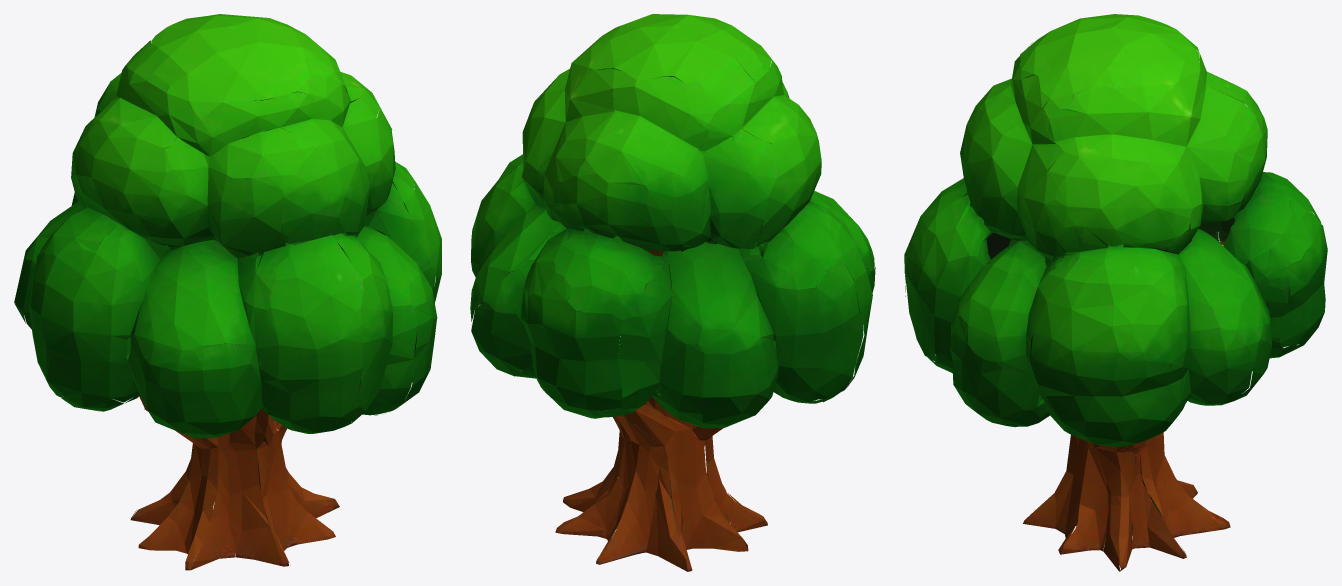
Rendered from rounded_tree.glb.
The picture shows the model from 3 angles, left to right: view 1: azimuth 30°, elevation 25°; view 2: azimuth 150°, elevation 25°; view 3: azimuth 270°, elevation 25°; orthographic projection. The views are drawn at different scales.
Visible parts, largest first — view 1: geometry_0; view 2: geometry_0; view 3: geometry_0.
Part boxes in pixels (left/top/right/bottom): geometry_0: left=14, top=14, right=441, bottom=570; geometry_0: left=470, top=14, right=875, bottom=571; geometry_0: left=904, top=14, right=1327, bottom=571.
Bounding box in the file's own units: 0.7886 × 0.9998 × 0.7769.
Materials: 1 (1 with a texture image).
